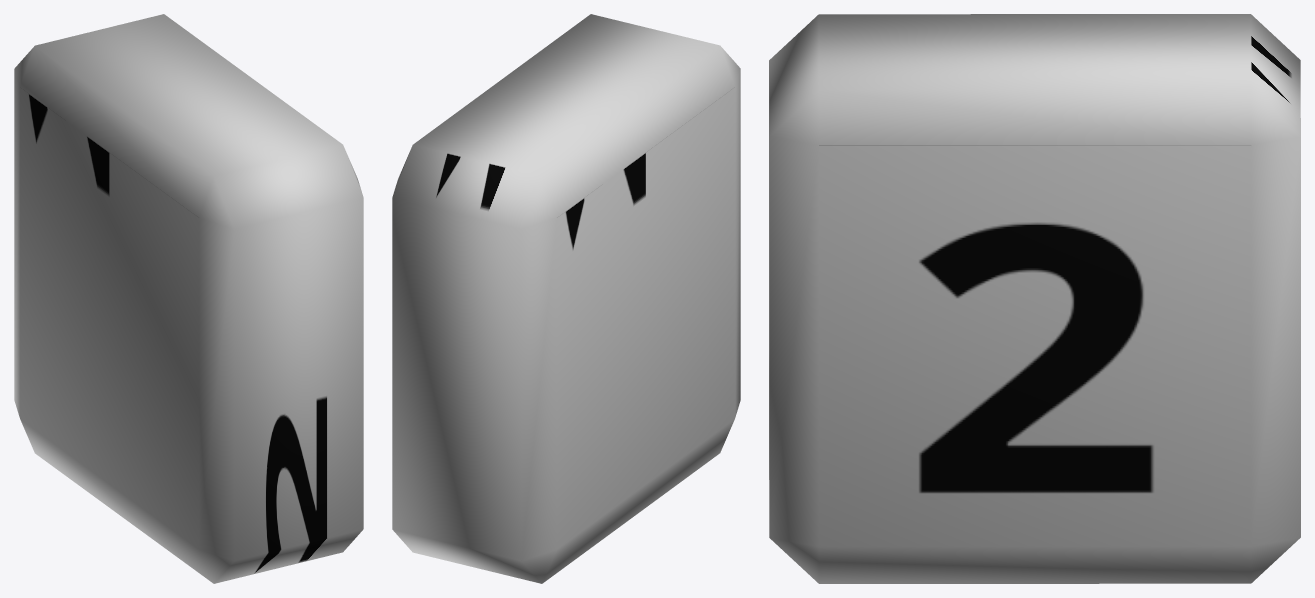
Rendered from Boton2.fbx.
The picture shows the model from 3 angles, left to right: view 1: azimuth 30°, elevation 25°; view 2: azimuth 150°, elevation 25°; view 3: azimuth 270°, elevation 25°; orthographic projection. The views are drawn at different scales.
Parts seen in each view (by area): view 1: Boton2; view 2: Boton2; view 3: Boton2.
Part boxes in pixels (x1,y1,x2,y2): Boton2: (14,14,363,583); Boton2: (392,14,740,583); Boton2: (769,14,1300,583).
Size of the model in its own units: 1.36 by 3.32 by 3.25.
